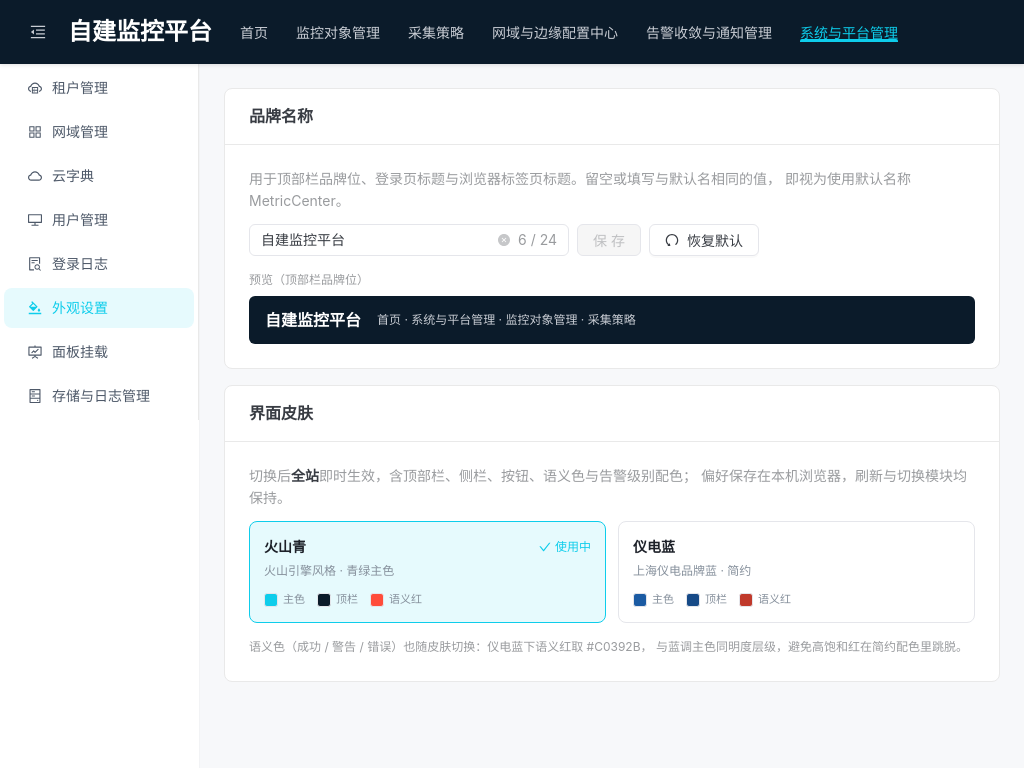
AppearanceSettingsPage › restores the default product name and clears the stored preference
Click the button with test id "product-name-reset": (704, 240) [649, 224, 759, 256]
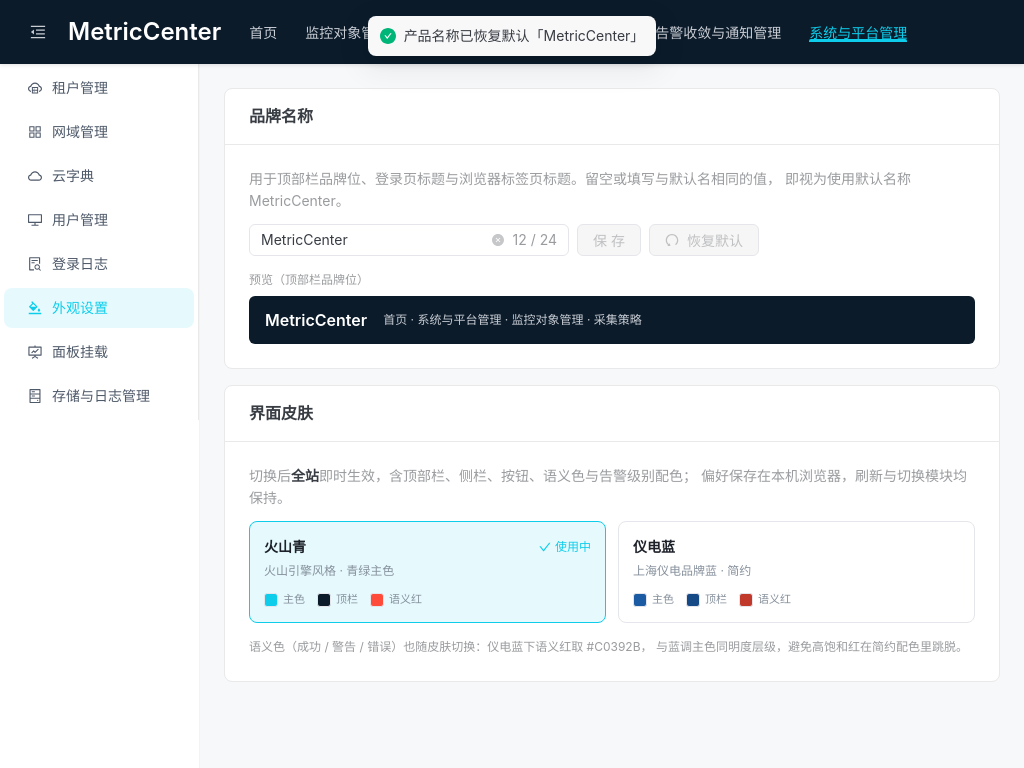
Check: the heading with class "app-title" reads "MetricCenter", box [68, 17, 221, 46]
